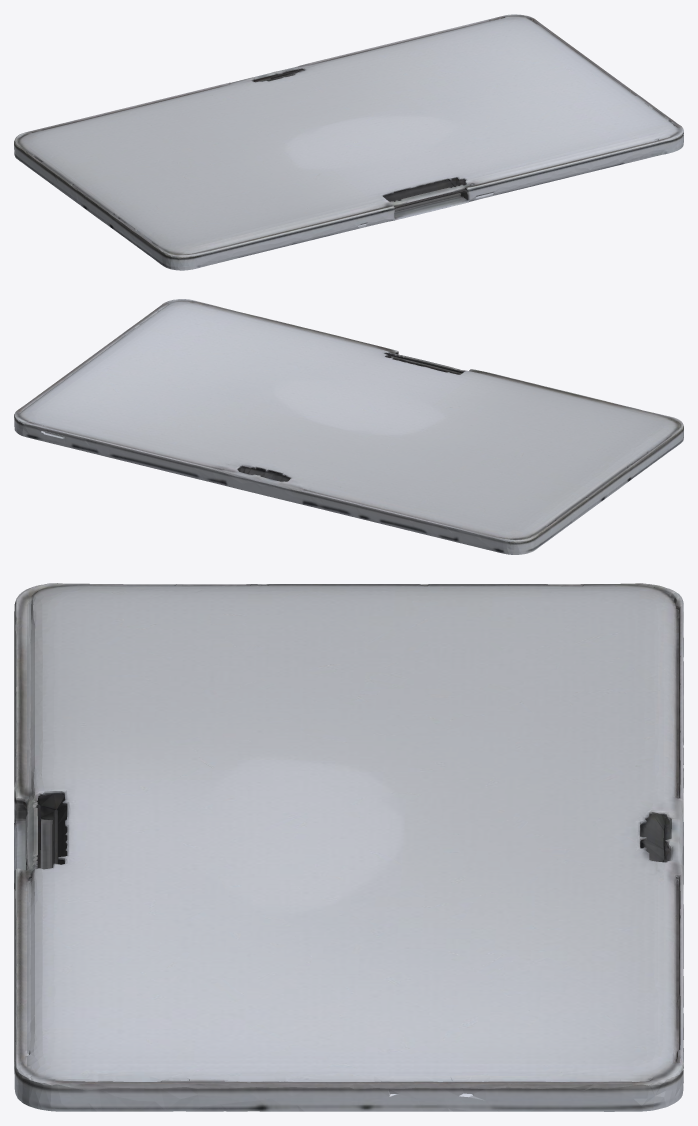
The model's file is lid.glb.
3 views of the same model, one above another, from view 1: azimuth 30°, elevation 25°; view 2: azimuth 150°, elevation 25°; view 3: azimuth 270°, elevation 25° (orthographic). The views are drawn at different scales.
Parts seen in each view (by area): view 1: source_surface_0; view 2: source_surface_0; view 3: source_surface_0.
Part boxes in pixels (bbox=[...]): source_surface_0: bbox=[14, 14, 683, 270]; source_surface_0: bbox=[14, 299, 683, 554]; source_surface_0: bbox=[14, 583, 683, 1111].
Bounding box in the file's own units: 0.312 × 0.0094 × 0.176.
1 material, 1 textured.
